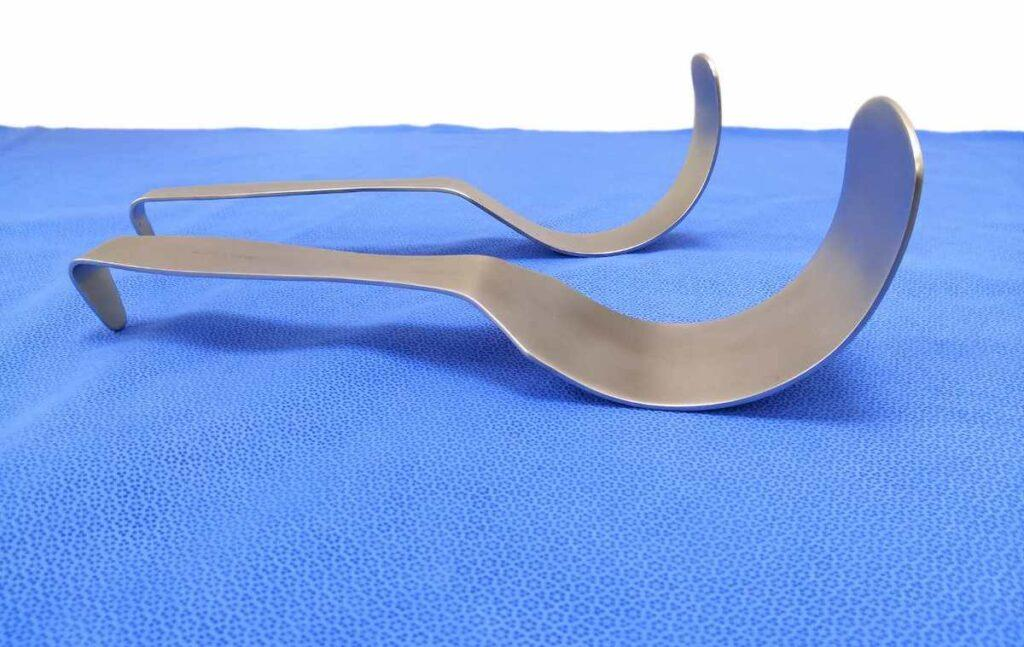Deaver Retractor: (66, 89, 947, 419), (118, 40, 739, 265)
